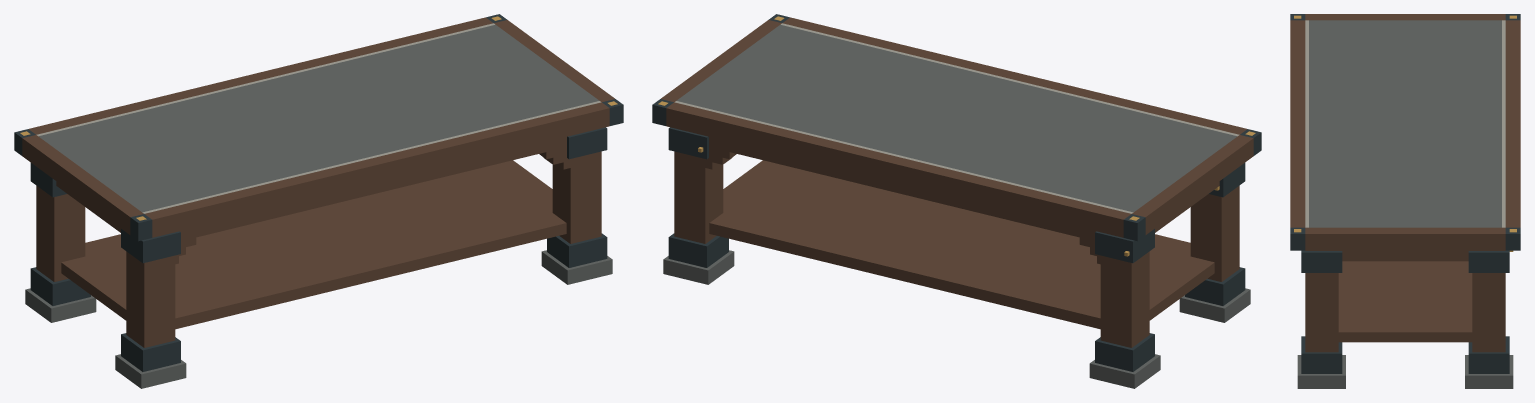
The model's file is visual-far.glb.
The picture shows the model from 3 angles, left to right: view 1: azimuth 30°, elevation 25°; view 2: azimuth 150°, elevation 25°; view 3: azimuth 270°, elevation 25°; orthographic projection. The views are drawn at different scales.
Parts seen in each view (by area): view 1: 茶几台面, 茶几桌架; view 2: 茶几台面, 茶几桌架; view 3: 茶几台面, 茶几桌架.
Boxes of the visible parts, x1,y1,x2,y2 form: 茶几台面: (14,14,623,241); 茶几桌架: (25,127,612,388); 茶几台面: (652,14,1261,241); 茶几桌架: (663,127,1250,388); 茶几台面: (1290,14,1520,250); 茶几桌架: (1297,250,1513,388).
Size of the model in its own units: 1.4 by 0.47 by 0.62.
6 materials, 6 textured.
